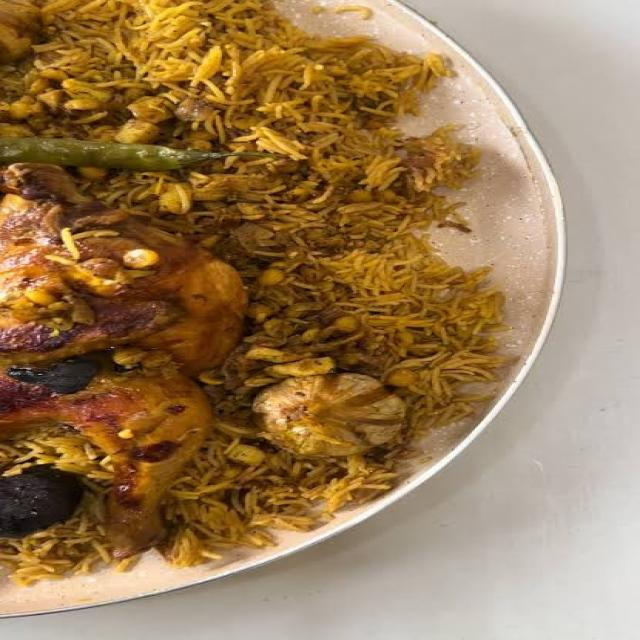Machboos: (6, 0, 500, 609)
